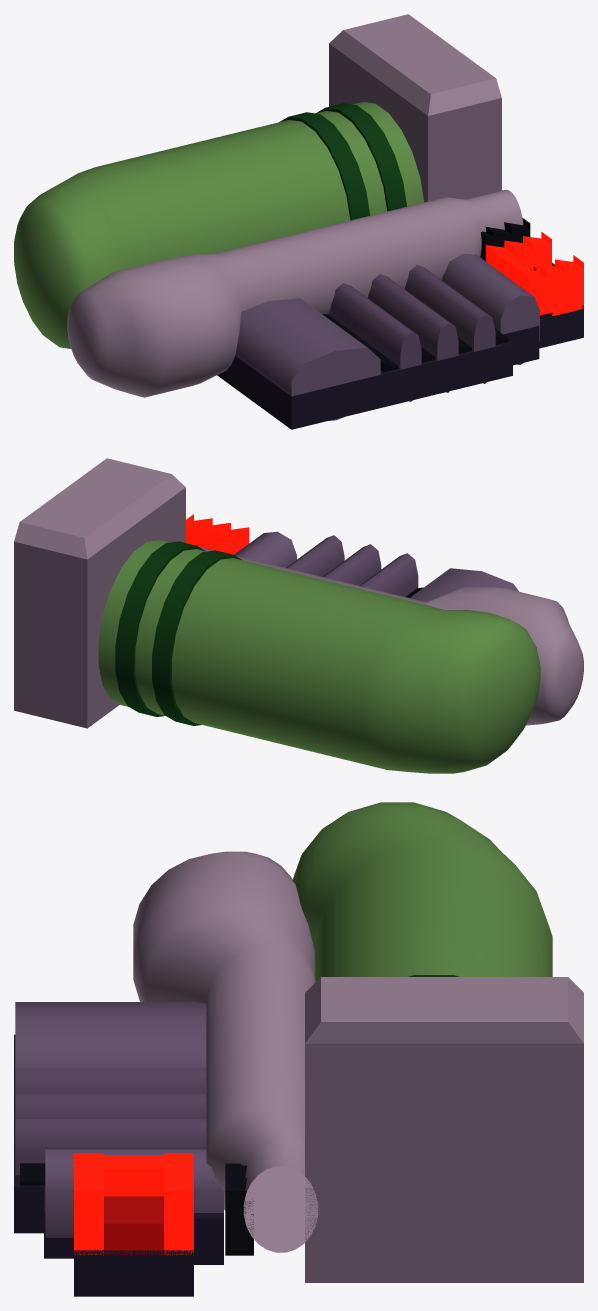
The model's file is newshc-197.glb.
The picture shows the model from 3 angles, top to bottom: view 1: azimuth 30°, elevation 25°; view 2: azimuth 150°, elevation 25°; view 3: azimuth 270°, elevation 25°; orthographic projection. The views are drawn at different scales.
Parts seen in each view (by area): view 1: newshc-197; view 2: newshc-197; view 3: newshc-197.
Boxes of the visible parts, box(x1,y1,x2,y2) form: newshc-197: box(14, 14, 583, 429); newshc-197: box(14, 458, 583, 773); newshc-197: box(14, 802, 583, 1296).
Bounding box in the file's own units: 2 × 0.85 × 1.58.
